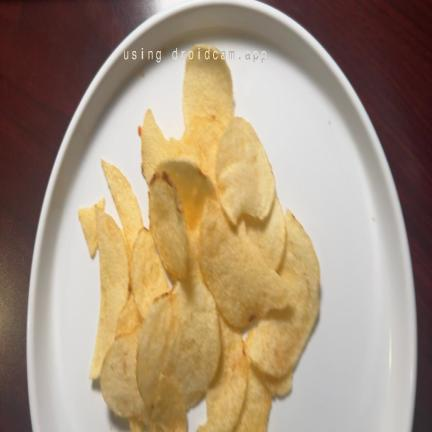chips: (79, 45, 319, 431), (246, 211, 319, 377), (200, 200, 289, 328), (138, 277, 220, 407), (166, 272, 220, 407), (90, 209, 128, 379), (216, 118, 275, 224), (198, 318, 248, 431), (100, 328, 148, 421), (137, 292, 175, 406), (183, 45, 233, 129), (157, 158, 215, 230), (149, 172, 187, 280), (142, 110, 199, 182), (102, 161, 143, 248), (130, 228, 169, 317), (246, 198, 286, 269), (183, 116, 224, 183), (235, 365, 271, 431), (149, 374, 187, 431), (79, 198, 104, 257), (116, 294, 142, 337), (255, 368, 292, 397), (265, 373, 292, 397), (129, 419, 144, 431)
plate: (27, 0, 416, 431)
